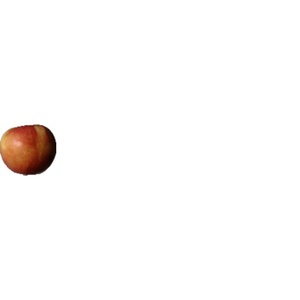maçã braeburn: (1, 121, 60, 177)
